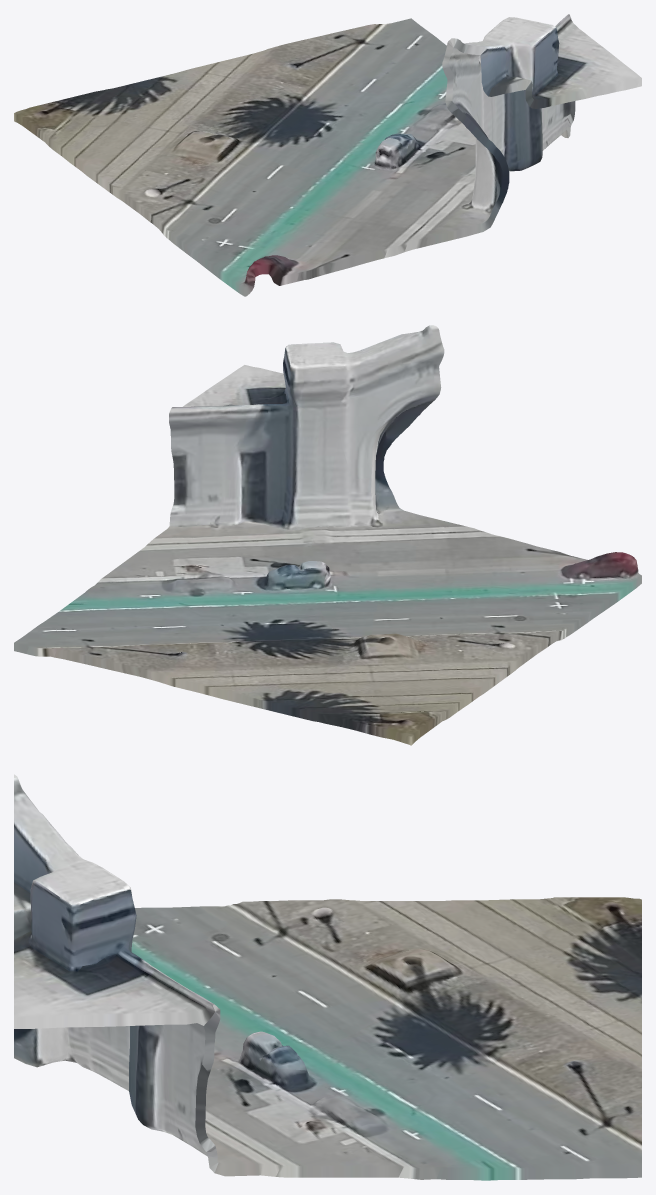
Rendered from z20-167771-405195-h0-yup-uvflip-v3-world.glb.
The picture shows the model from 3 angles, top to bottom: view 1: azimuth 30°, elevation 25°; view 2: azimuth 150°, elevation 25°; view 3: azimuth 270°, elevation 25°; orthographic projection. The views are drawn at different scales.
Size of the model in its own units: 30.16 by 15.08 by 30.32.
Materials: 1 (1 with a texture image).
